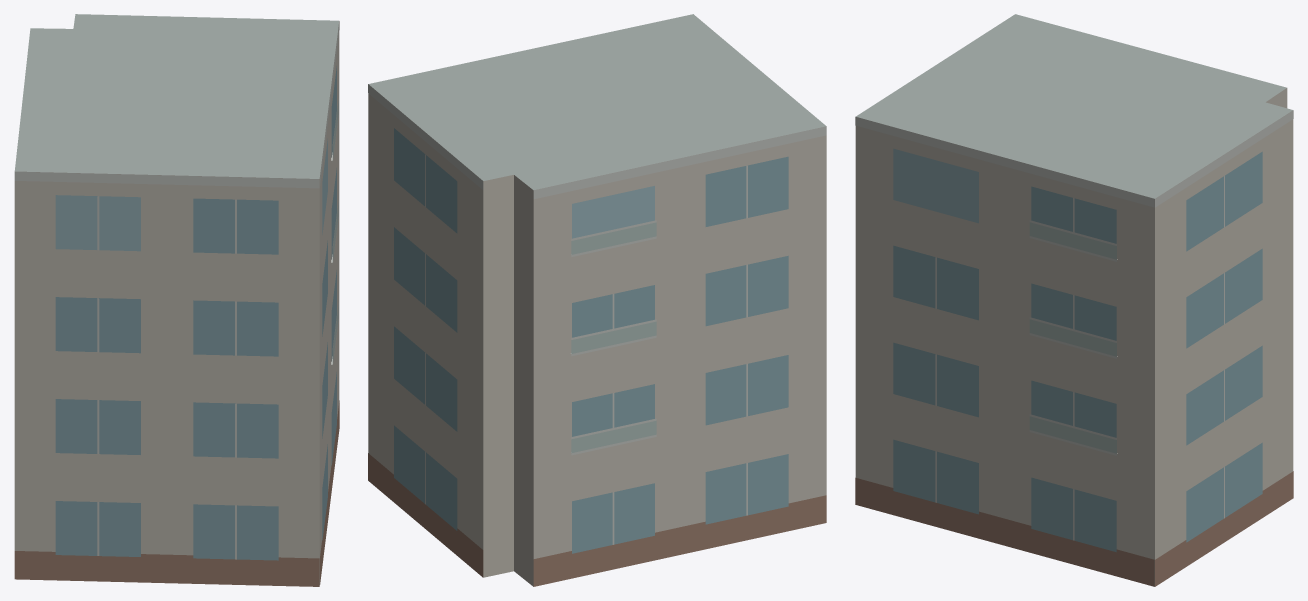
The model's file is survey-upis-32933195.glb.
The picture shows the model from 3 angles, left to right: view 1: azimuth 30°, elevation 25°; view 2: azimuth 150°, elevation 25°; view 3: azimuth 270°, elevation 25°; orthographic projection. The views are drawn at different scales.
Parts seen in each view (by area): view 1: survey-upis-32933195.tmp; view 2: survey-upis-32933195.tmp; view 3: survey-upis-32933195.tmp.
Part boxes in pixels (bbox=[...]): survey-upis-32933195.tmp: bbox=[14, 14, 339, 586]; survey-upis-32933195.tmp: bbox=[368, 14, 826, 586]; survey-upis-32933195.tmp: bbox=[855, 14, 1293, 586].
Size of the model in its own units: 10.83 by 10.6 by 10.85.
